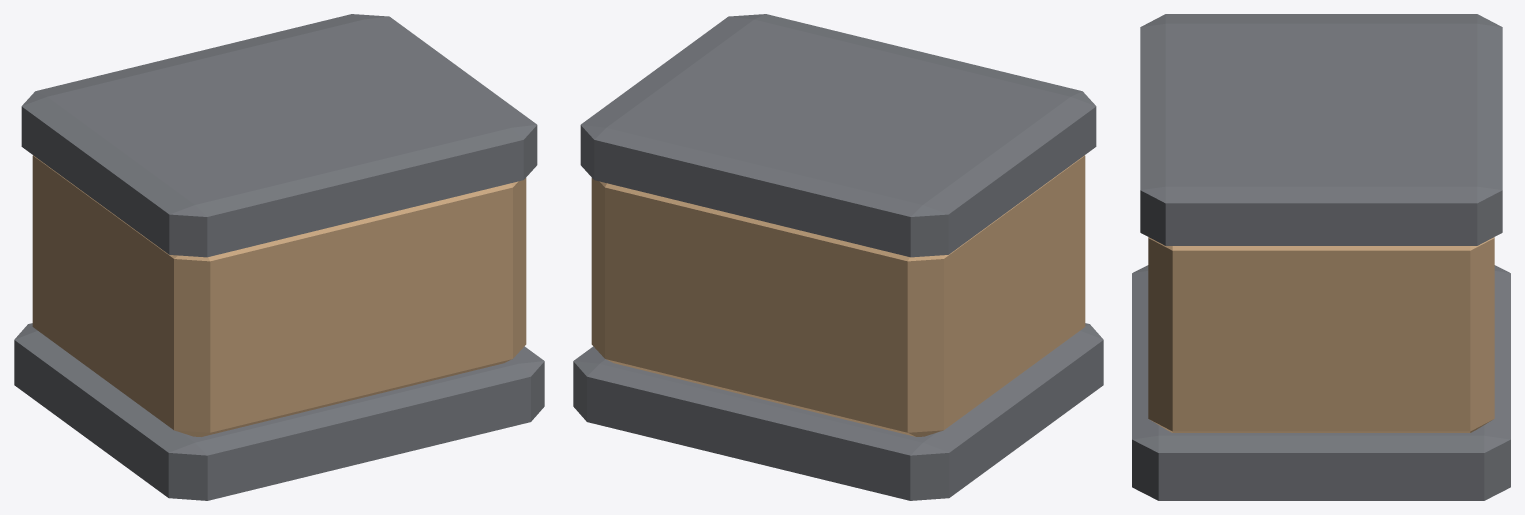
Rendered from b14_pallet_strapped_masonry_bricks.glb.
The picture shows the model from 3 angles, left to right: view 1: azimuth 30°, elevation 25°; view 2: azimuth 150°, elevation 25°; view 3: azimuth 270°, elevation 25°; orthographic projection. The views are drawn at different scales.
Visible parts, largest first — view 1: b14_pallet_strapped_masonry_bricks; view 2: b14_pallet_strapped_masonry_bricks; view 3: b14_pallet_strapped_masonry_bricks.
Boxes of the visible parts, x1,y1,x2,y2 form: b14_pallet_strapped_masonry_bricks: (14, 14, 544, 500); b14_pallet_strapped_masonry_bricks: (573, 14, 1103, 500); b14_pallet_strapped_masonry_bricks: (1132, 14, 1510, 500).
Bounding box in the file's own units: 1.04 × 0.759 × 0.86.
